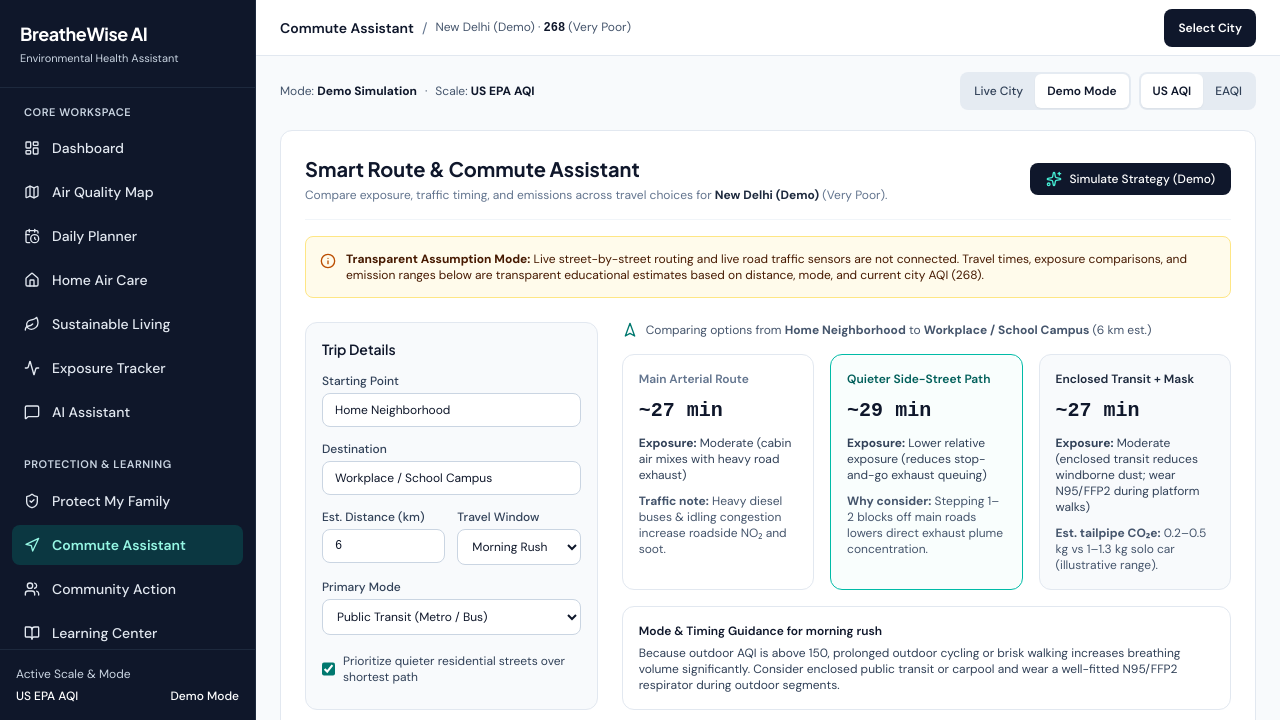
Test case: BreatheWise AI UI Workflows, Navigation, Forms, Settings & Persistence › completes onboarding skip flow and navigates cleanly across core & lazy routes without errors
Earlier steps of the test are not shown.
Later steps or results of the test are not shown.
Expected: the heading "Smart Route & Commute Assistant" is shown, top-left (305, 156), bottom-right (640, 181)
Clear the field labelled "Starting Point" at (451, 410), box top-left (322, 393), bottom-right (581, 427)
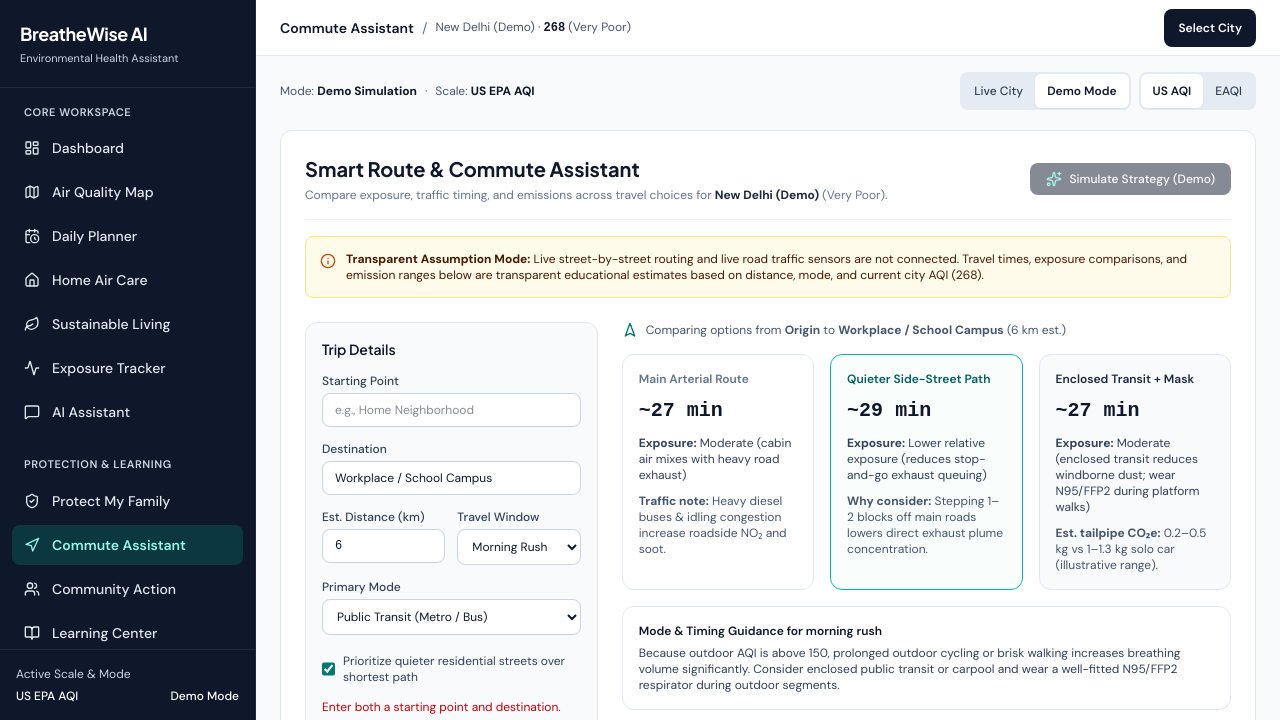
Now the message shows "Enter both a starting point", box top-left (322, 699), bottom-right (561, 715)
Click the button "Community Action" at (128, 588), box top-left (12, 568), bottom-right (243, 608)
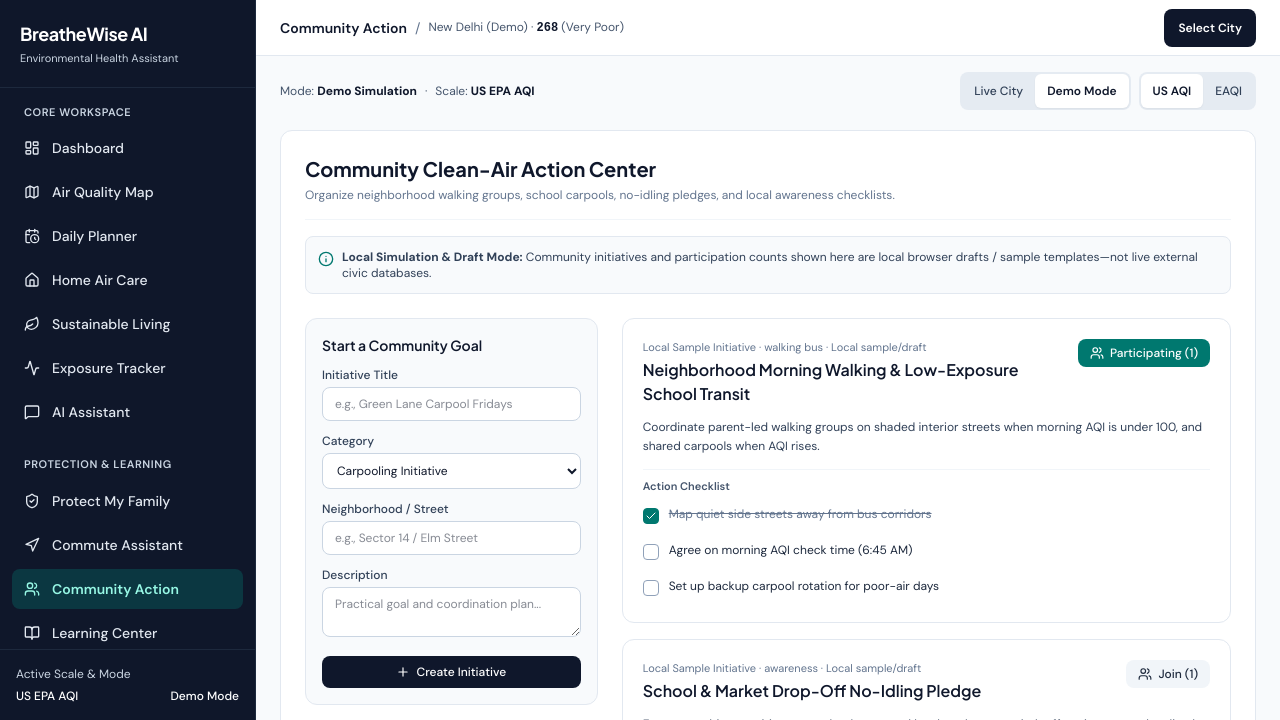
Now the heading "Community Clean-Air Action Center" is shown, box top-left (305, 156), bottom-right (656, 181)
Click the button "Create Initiative" at (451, 672), box top-left (322, 656), bottom-right (581, 688)
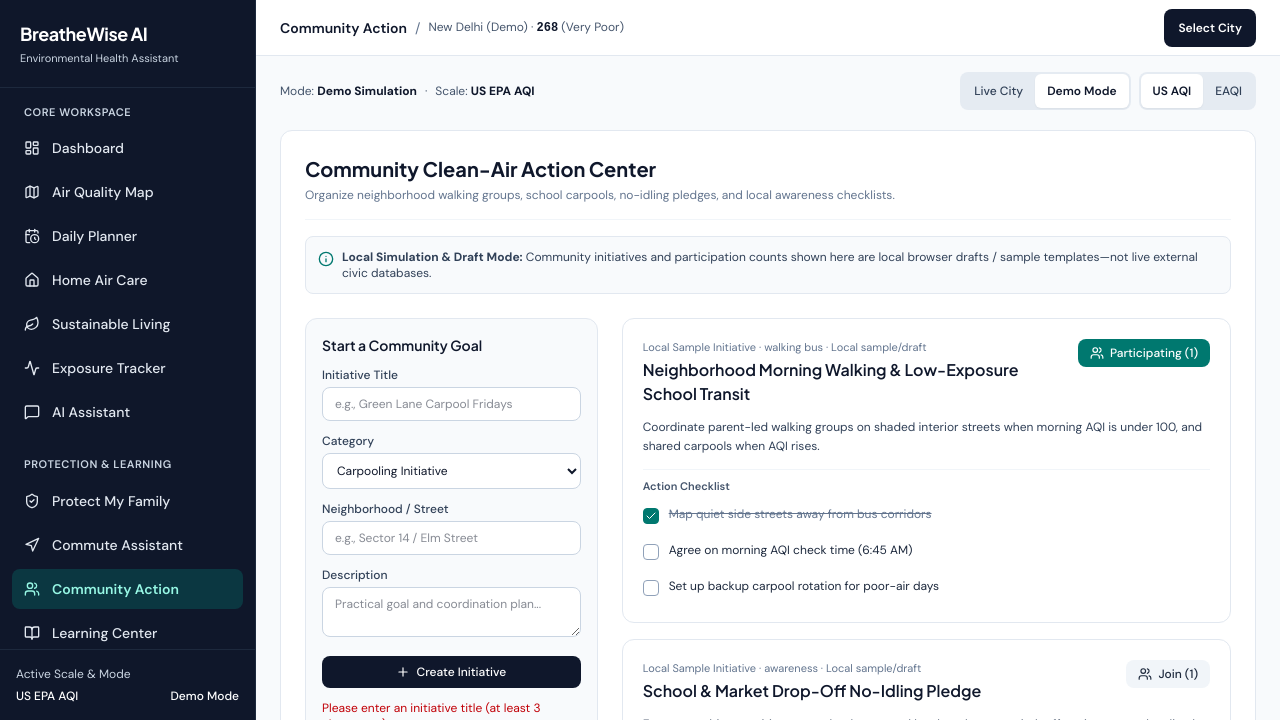
Type "School No-Idling Walk" into the field labelled "Initiative Title" at (451, 404), box top-left (322, 387), bottom-right (581, 421)
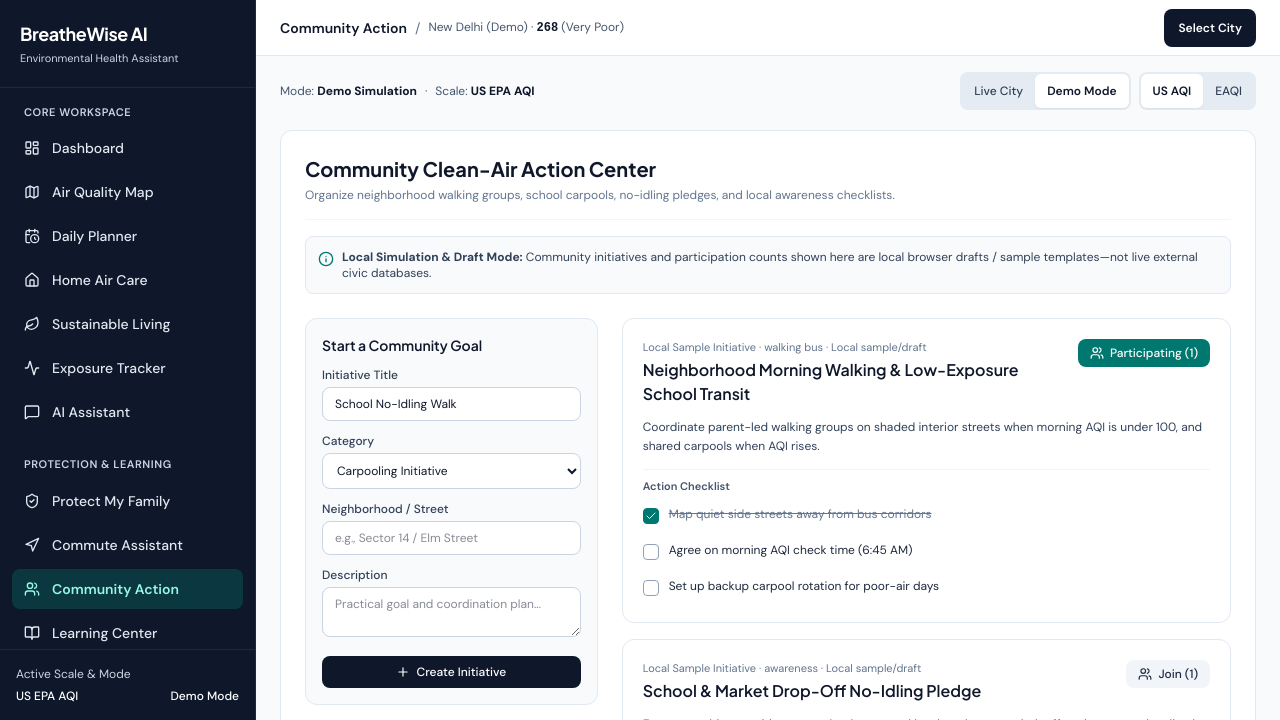
Click the button "Create Initiative" at (451, 672), box top-left (322, 656), bottom-right (581, 688)
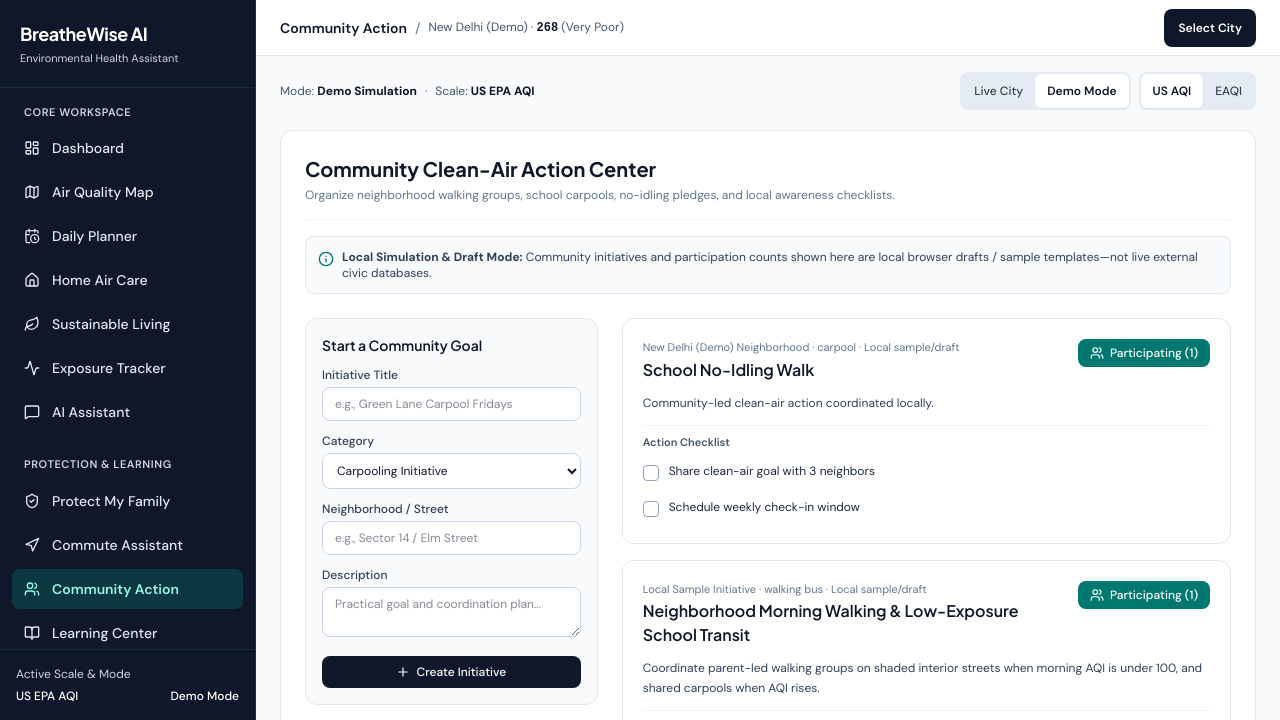
Now the heading "School No-Idling Walk" is shown, box top-left (643, 358), bottom-right (814, 380)
Click the button "Learning Center" at (128, 632), box top-left (12, 612), bottom-right (243, 652)
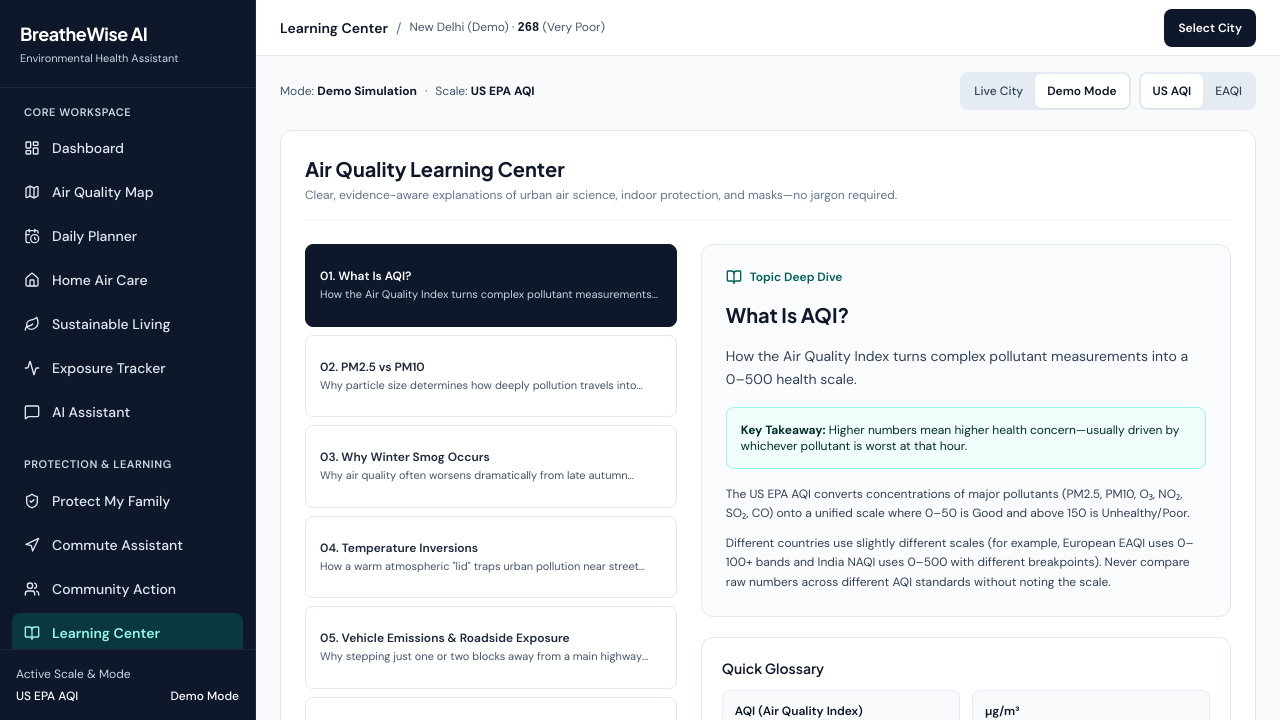
Now the heading "Air Quality Learning Center" is shown, box top-left (305, 156), bottom-right (565, 181)
